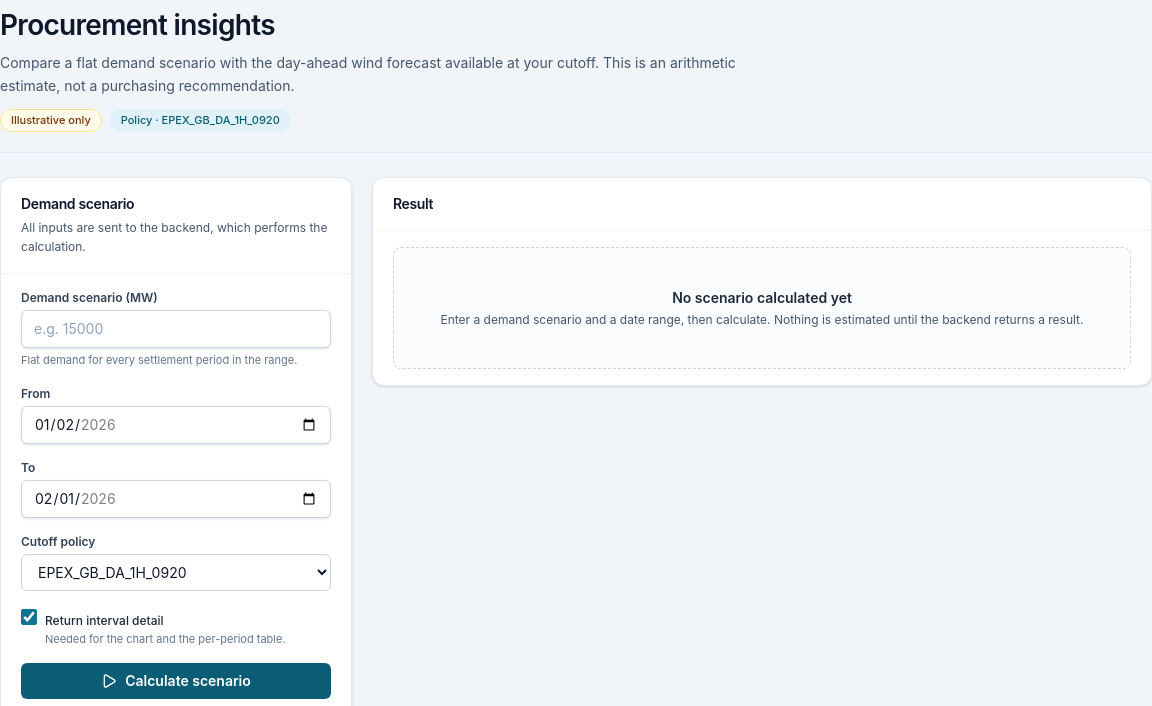
Test: ProcurementInsights › renders the backend calculation and the illustrative disclaimer
The image size is (1152, 706).
Type "15000" into the number field labelled "Demand scenario (MW)" at {"x": 176, "y": 329}, box [21, 310, 331, 348]
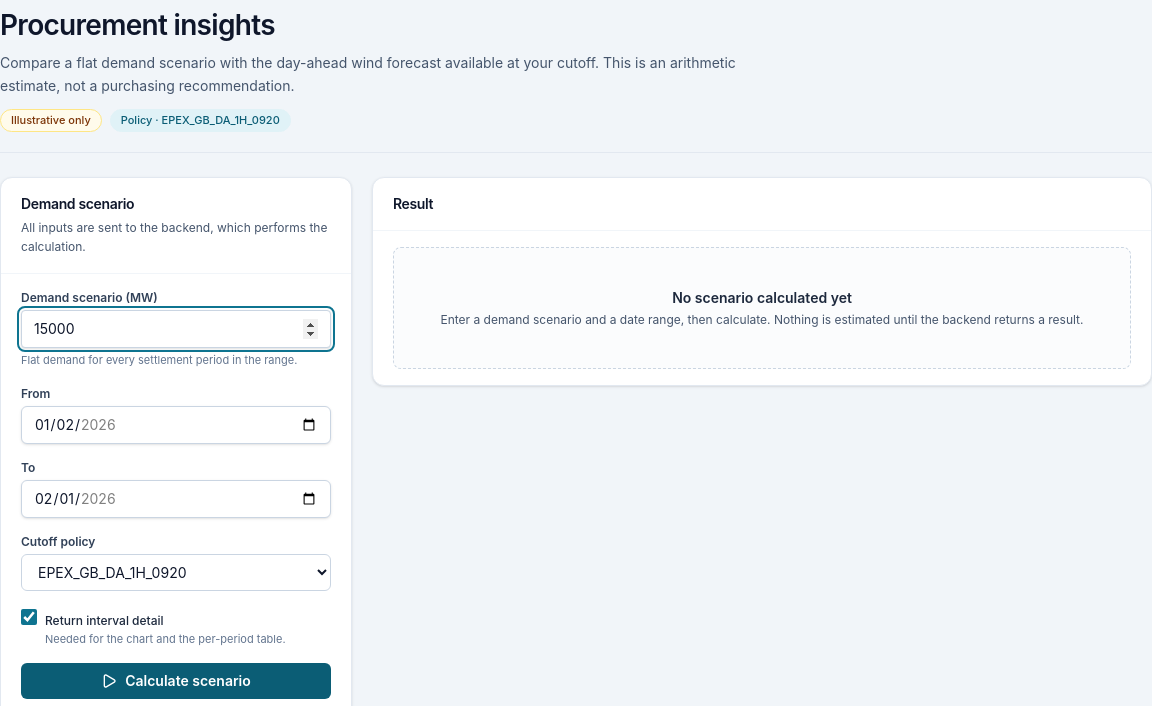
Click the button "Calculate scenario" at {"x": 176, "y": 681}, box [21, 663, 331, 699]
(page scrolled)
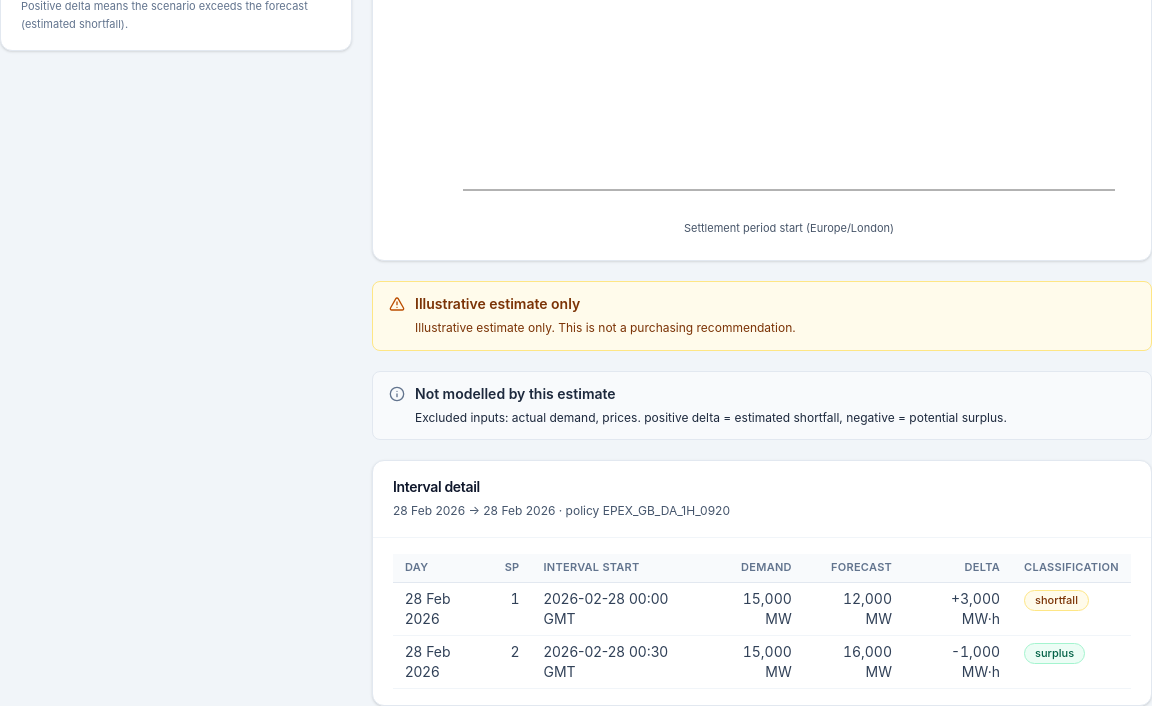
Expected: the text "Illustrative estimate only" is shown, [415, 295, 580, 312]
Expected: the text "actual demand, prices" is shown, [512, 410, 637, 425]
Expected: the text "shortfall" is shown, [1024, 590, 1089, 611]
